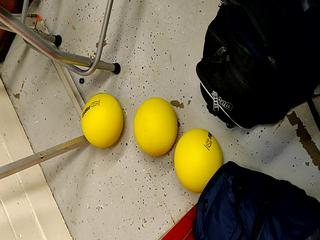power_cell: (71, 85, 127, 156), (123, 89, 179, 160), (168, 124, 224, 195)
